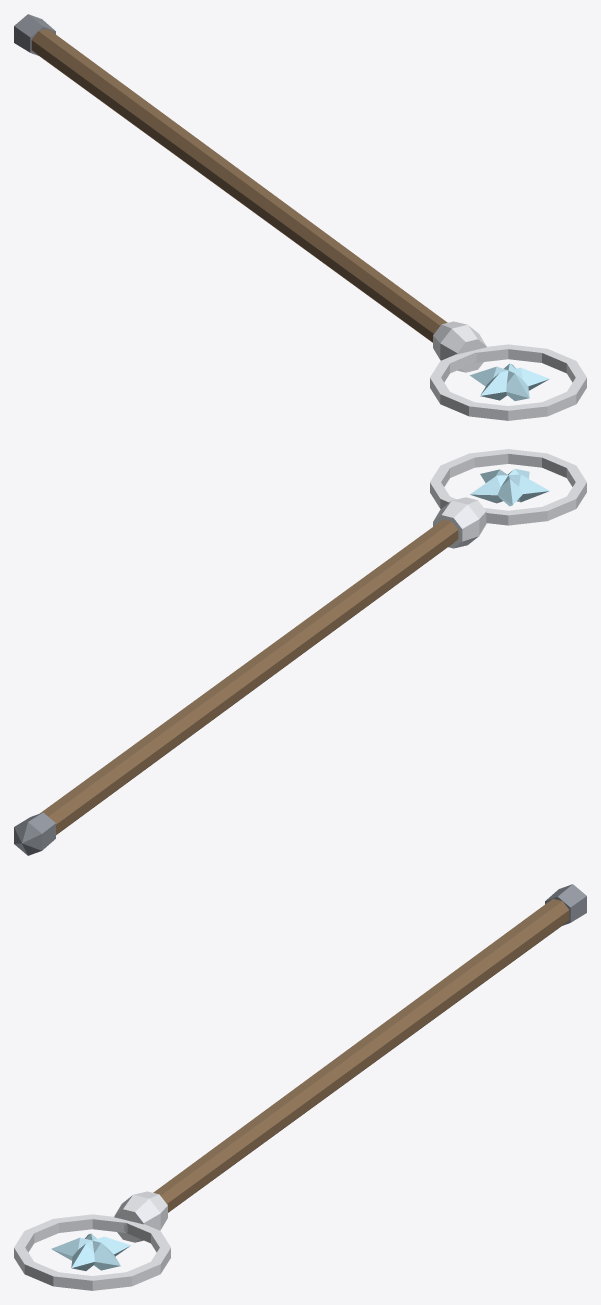
Rendered from starcaller.glb.
3 views of the same model, one above another, from view 1: azimuth 30°, elevation 25°; view 2: azimuth 150°, elevation 25°; view 3: azimuth 330°, elevation 25° (orthographic).
Parts seen in each view (by area): view 1: starcaller; view 2: starcaller; view 3: starcaller.
Part boxes in pixels (left/top/right/bottom): starcaller: left=14, top=14, right=586, bottom=420; starcaller: left=14, top=449, right=586, bottom=855; starcaller: left=14, top=884, right=586, bottom=1290.
Bounding box in the file's own units: 0.2584 × 0.0739 × 1.73.
